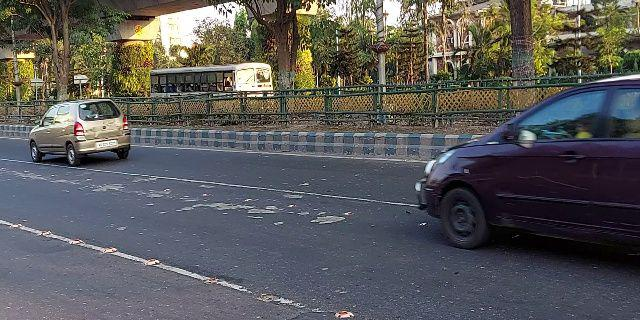Car: (414, 68, 640, 255), (28, 96, 134, 168)
